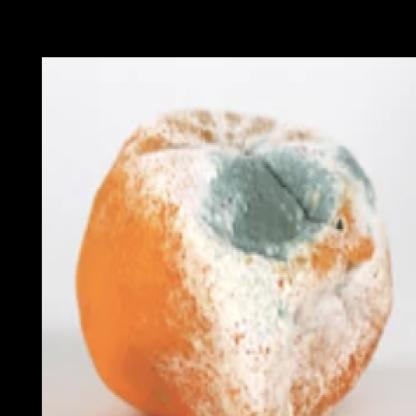rotten: (77, 104, 399, 416)
